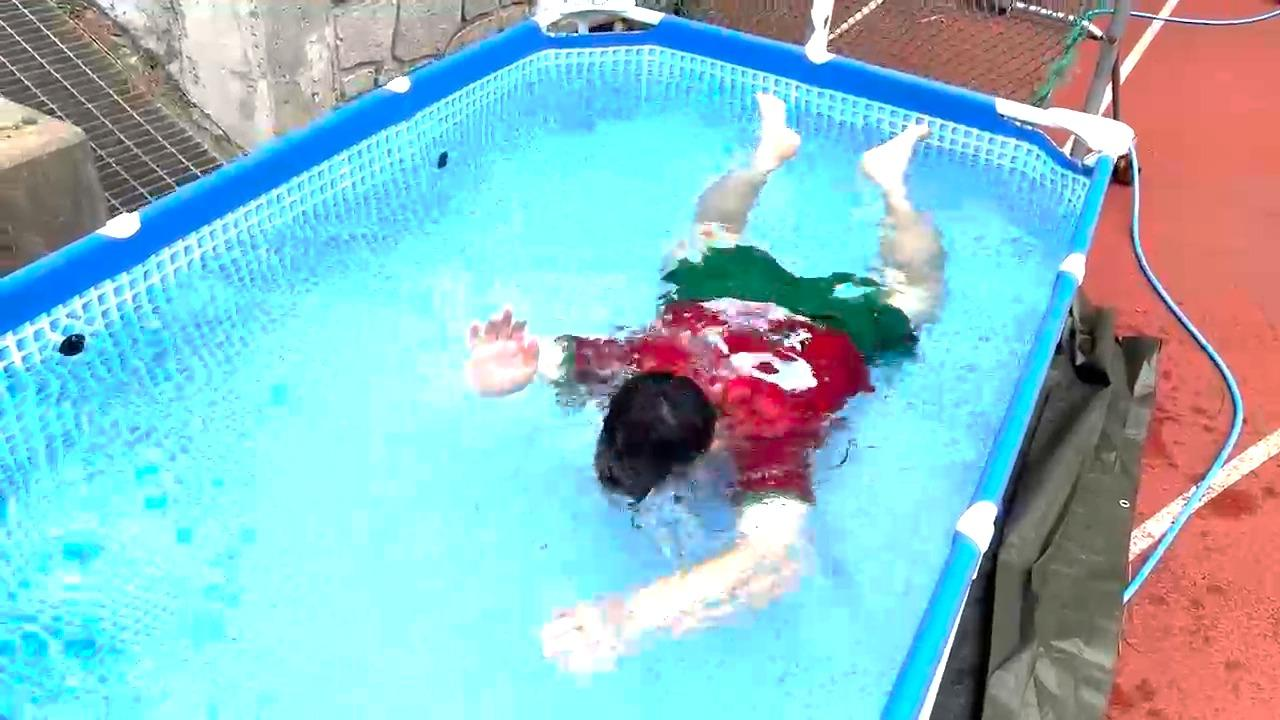Drowning: (429, 59, 993, 665)
